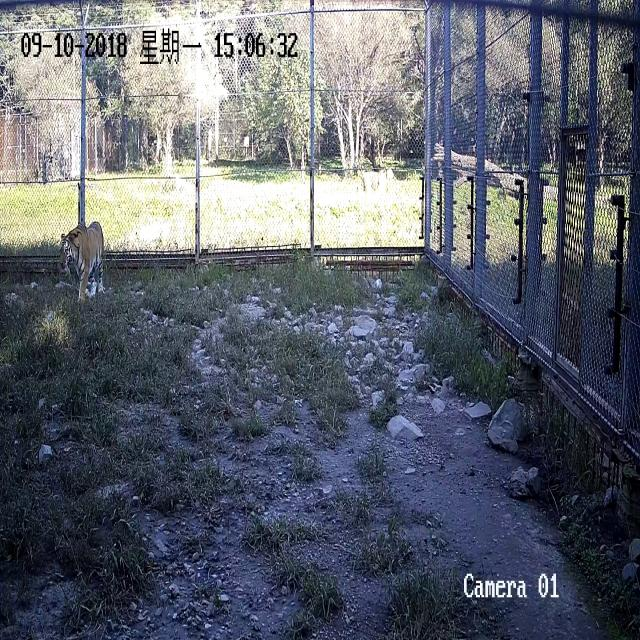Tiger: (47, 203, 118, 306)
